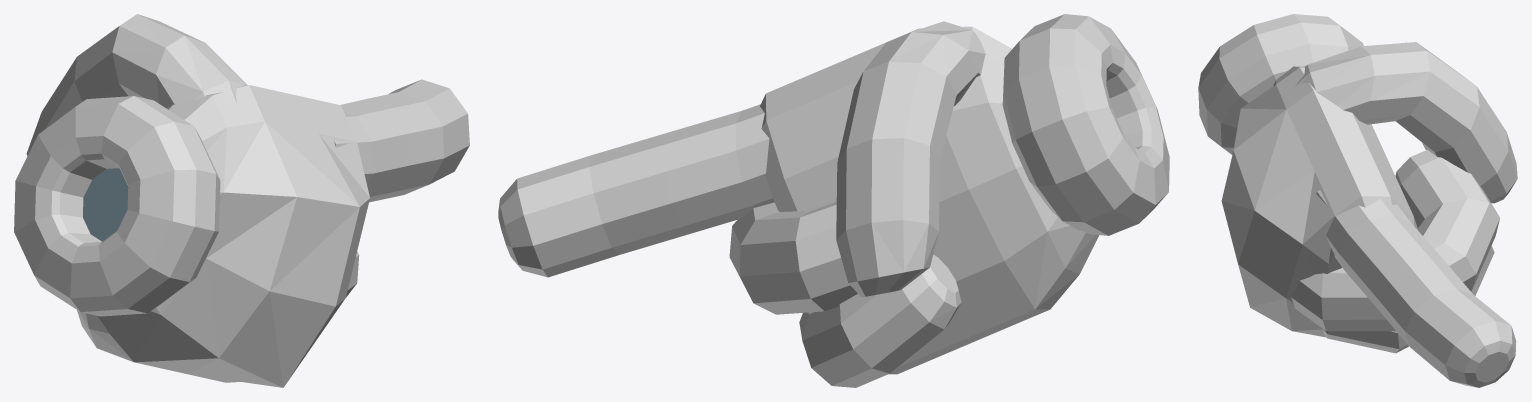
3 views of the same model, side by side, from view 1: azimuth 30°, elevation 25°; view 2: azimuth 150°, elevation 25°; view 3: azimuth 270°, elevation 25° (orthographic). The views are drawn at different scales.
Visible parts, largest first — view 1: group_764930239; view 2: group_764930239; view 3: group_764930239.
Part boxes in pixels (box(x1,y1,x2,y2)): group_764930239: box(14, 14, 469, 387); group_764930239: box(498, 14, 1169, 387); group_764930239: box(1198, 14, 1517, 387).
Size of the model in its own units: 35.96 by 21.83 by 22.91.
